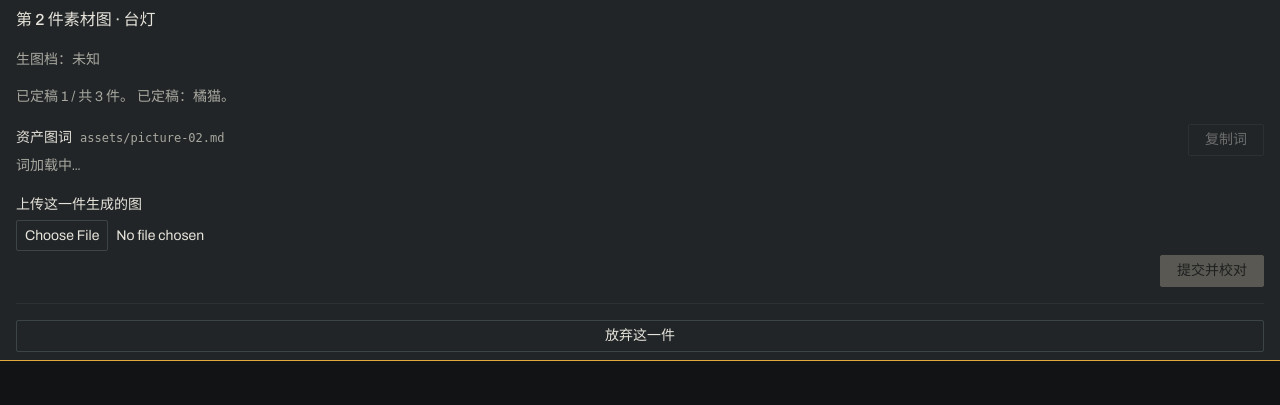
Test: AssetImageCard 放弃这一件 › 取消不发请求，代价收起
The width and height of the screenshot is (1280, 405).
Click the button "放弃这一件": (640, 336) [16, 320, 1264, 352]
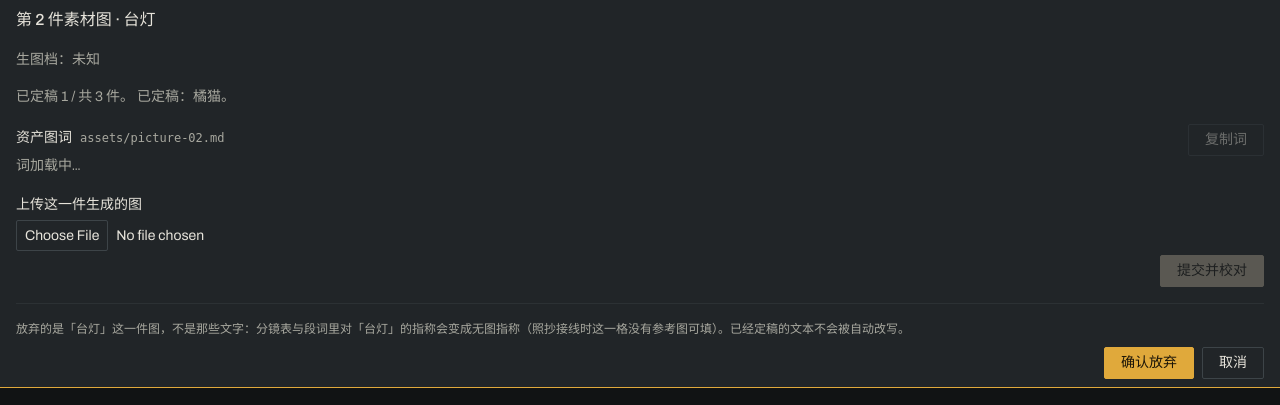
Click the button "取消": (1233, 363) [1202, 347, 1264, 379]
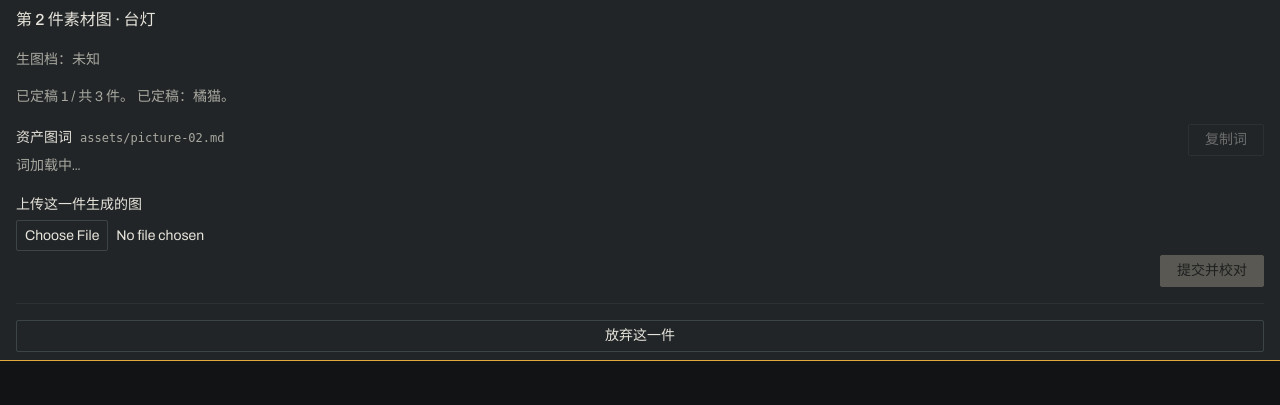
Result: the text "无图指称" is gone
